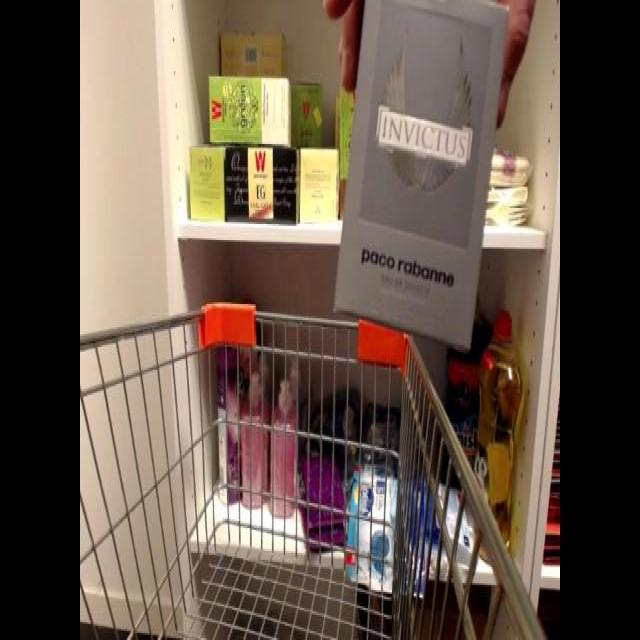Paco Rabanne: (326, 2, 512, 343)
